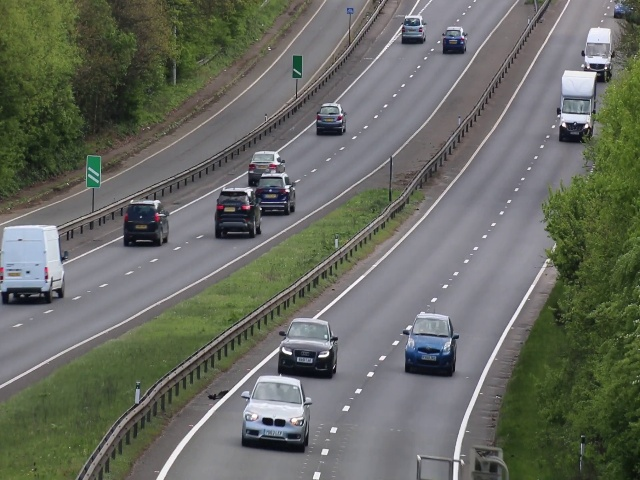car: (1, 224, 71, 304), (238, 375, 312, 450), (277, 315, 337, 378), (403, 310, 457, 377), (213, 185, 261, 238), (557, 78, 593, 144), (123, 198, 170, 247), (259, 174, 296, 213), (314, 100, 348, 139), (581, 49, 612, 82), (400, 13, 427, 43), (248, 150, 283, 172), (443, 25, 468, 55)
